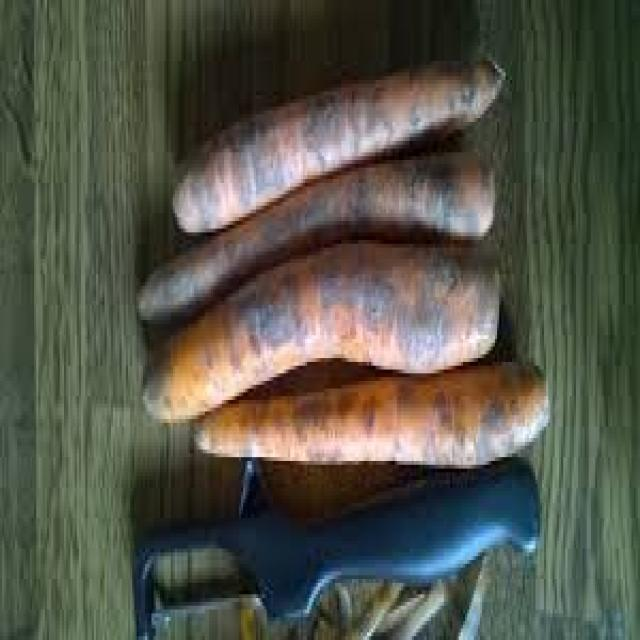Stale_Carrot: (144, 143, 502, 336), (141, 245, 498, 422), (196, 345, 559, 481)
